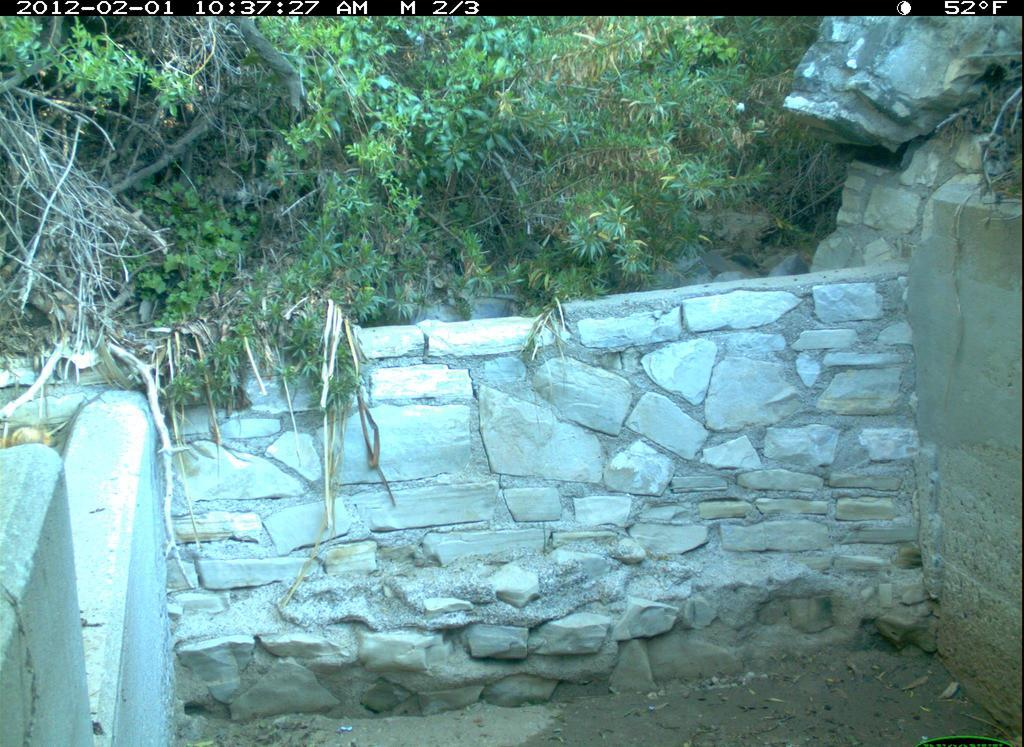squirrel: (1, 421, 63, 457)
